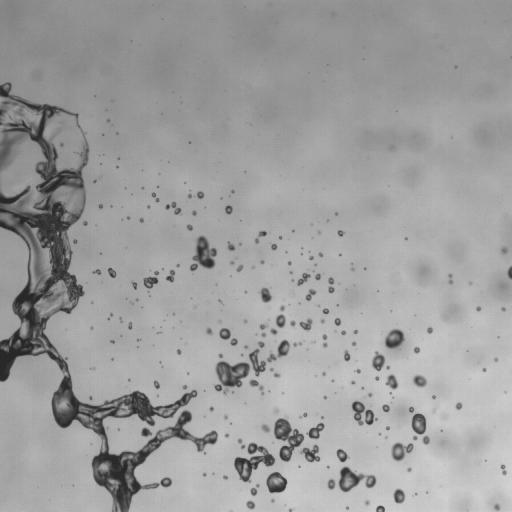droplet: (274, 416, 324, 461), (233, 438, 275, 482), (190, 236, 217, 271), (351, 400, 376, 425), (266, 472, 287, 493), (391, 442, 413, 461), (385, 329, 404, 348), (300, 445, 319, 462), (143, 271, 158, 288), (372, 351, 385, 370), (385, 374, 398, 389), (165, 202, 180, 214), (260, 287, 272, 302), (393, 488, 405, 503), (413, 374, 426, 387), (336, 449, 349, 462), (299, 318, 312, 330), (275, 314, 285, 327), (259, 323, 268, 337), (305, 289, 316, 300), (166, 270, 174, 282), (250, 484, 258, 495), (246, 500, 255, 509), (108, 268, 116, 277), (344, 350, 350, 361), (261, 424, 269, 432), (225, 205, 232, 214), (196, 191, 204, 198), (227, 242, 234, 250), (382, 404, 389, 412), (206, 327, 212, 335), (494, 503, 500, 511), (376, 505, 384, 511), (501, 246, 507, 253), (315, 273, 321, 280), (322, 308, 329, 314), (334, 318, 340, 325), (270, 328, 277, 334), (456, 402, 462, 409), (186, 224, 192, 230), (337, 230, 343, 236), (271, 244, 277, 250), (237, 265, 243, 271), (413, 347, 419, 353), (93, 269, 100, 274), (290, 320, 295, 327), (154, 381, 159, 388), (279, 305, 284, 311), (427, 327, 432, 333), (322, 334, 327, 340), (274, 372, 280, 377), (300, 412, 306, 417), (132, 281, 136, 288), (476, 306, 481, 311), (322, 342, 327, 347), (273, 408, 278, 413), (442, 414, 447, 419), (364, 500, 369, 505), (128, 322, 132, 328), (409, 406, 413, 412), (188, 193, 192, 198), (192, 210, 196, 215), (341, 330, 345, 335), (177, 349, 181, 354), (139, 218, 143, 222), (83, 221, 87, 225), (73, 239, 77, 243), (319, 252, 323, 256), (501, 307, 505, 311), (320, 319, 324, 323), (356, 369, 360, 373), (182, 385, 186, 389), (209, 407, 213, 411), (225, 433, 229, 437), (407, 467, 411, 471), (223, 475, 227, 479), (99, 204, 102, 208), (309, 256, 313, 259), (352, 342, 356, 345), (244, 345, 247, 349), (494, 358, 498, 361), (368, 393, 372, 396), (432, 408, 435, 412), (289, 508, 293, 511), (60, 143, 63, 146), (119, 318, 122, 321), (244, 320, 247, 323), (354, 330, 357, 333), (386, 366, 389, 369), (270, 368, 273, 371), (483, 368, 486, 371), (375, 376, 378, 379), (351, 381, 354, 384), (432, 395, 435, 398), (224, 415, 227, 418), (203, 473, 206, 476), (231, 190, 234, 192), (335, 212, 337, 215), (127, 216, 129, 219), (279, 236, 281, 239), (231, 261, 233, 264), (261, 260, 263, 263), (288, 262, 291, 264), (110, 313, 112, 316), (111, 340, 113, 343), (322, 372, 325, 374), (89, 397, 92, 399), (323, 396, 326, 398), (386, 427, 389, 429), (147, 206, 149, 208), (290, 271, 292, 273), (219, 300, 221, 302), (272, 499, 274, 501)
ligament: (0, 82, 218, 511), (214, 340, 290, 394), (327, 466, 376, 492), (411, 412, 429, 444), (219, 328, 237, 345), (249, 379, 264, 393), (254, 230, 266, 243), (297, 273, 309, 285), (328, 277, 334, 293), (500, 464, 506, 475), (152, 193, 159, 202), (507, 265, 511, 279), (448, 274, 452, 283), (293, 342, 301, 346)
